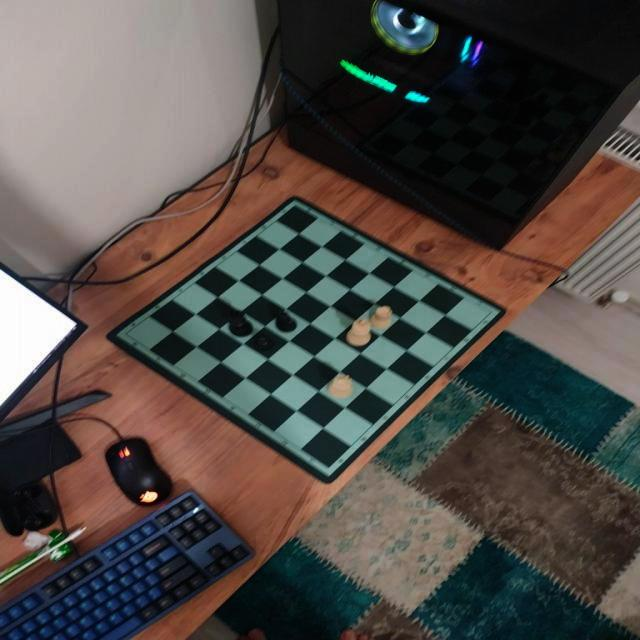chess-table-corners: (316, 458, 339, 476), (284, 198, 306, 214), (478, 305, 501, 319), (120, 329, 136, 341)
